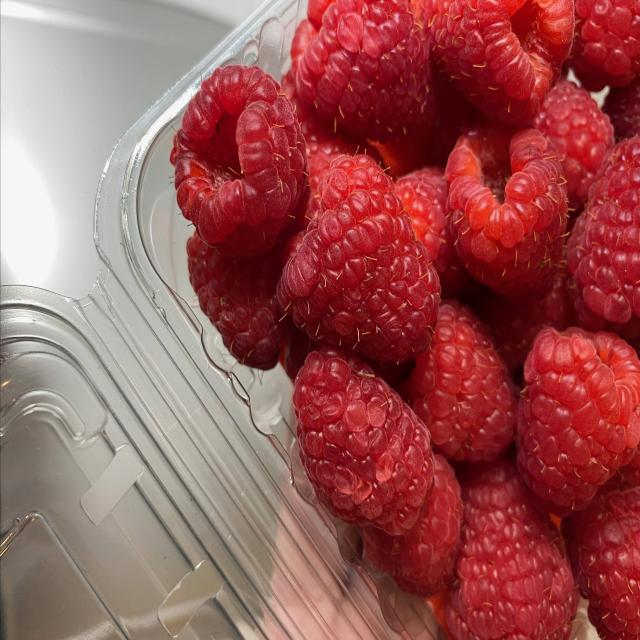raspberries: (190, 6, 634, 634)
